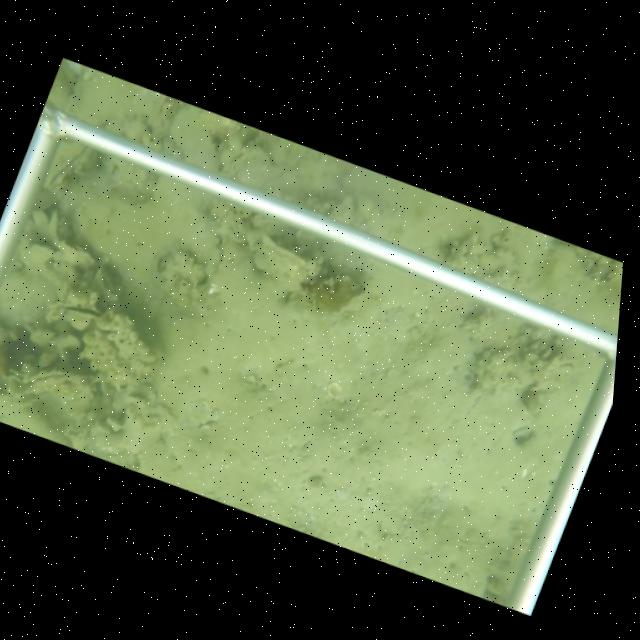Oyster-Closed: (206, 232, 225, 275)
Oyster-Indeterminate: (245, 226, 309, 292), (509, 425, 534, 441)
Oyster-Open: (44, 143, 98, 191), (44, 300, 104, 332)
